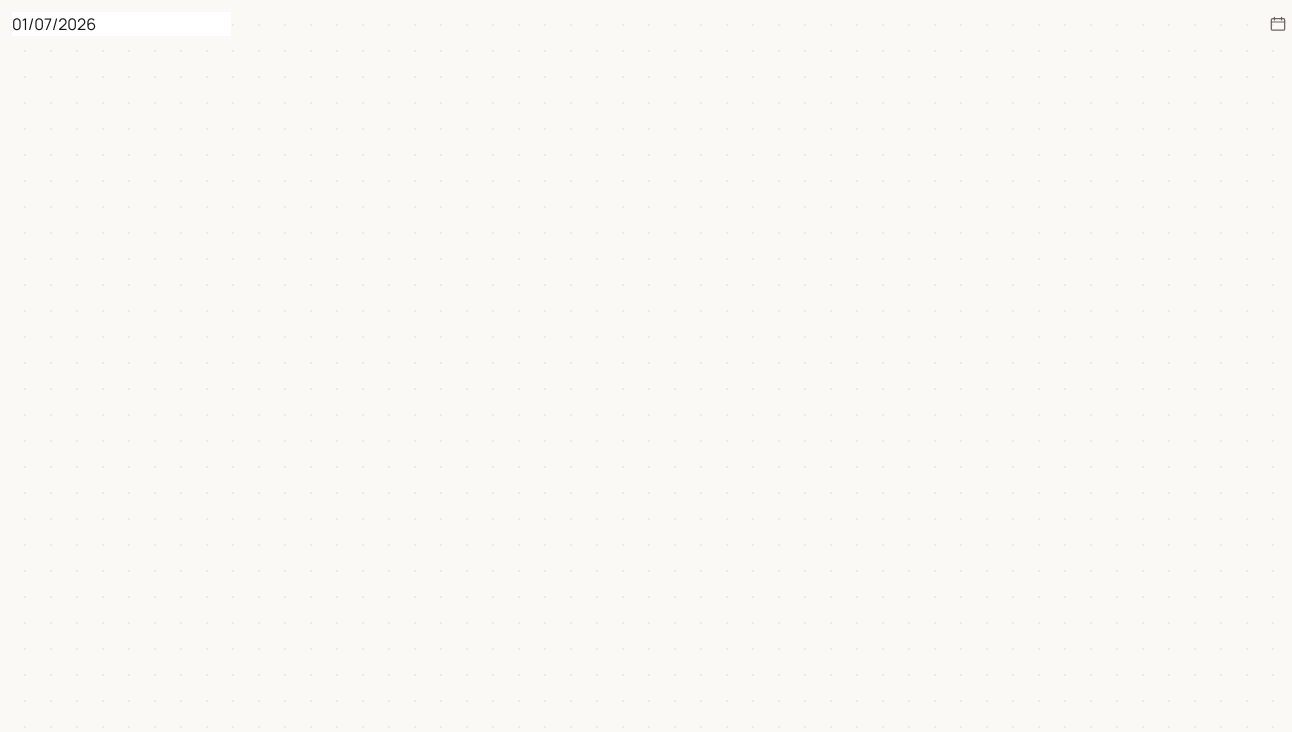
Test: DateInput › opens the calendar when the field itself is clicked, not only the icon
Later steps or results of the test are not shown.
Click the field named "Applied date" at (122, 24), box [12,12,231,36]
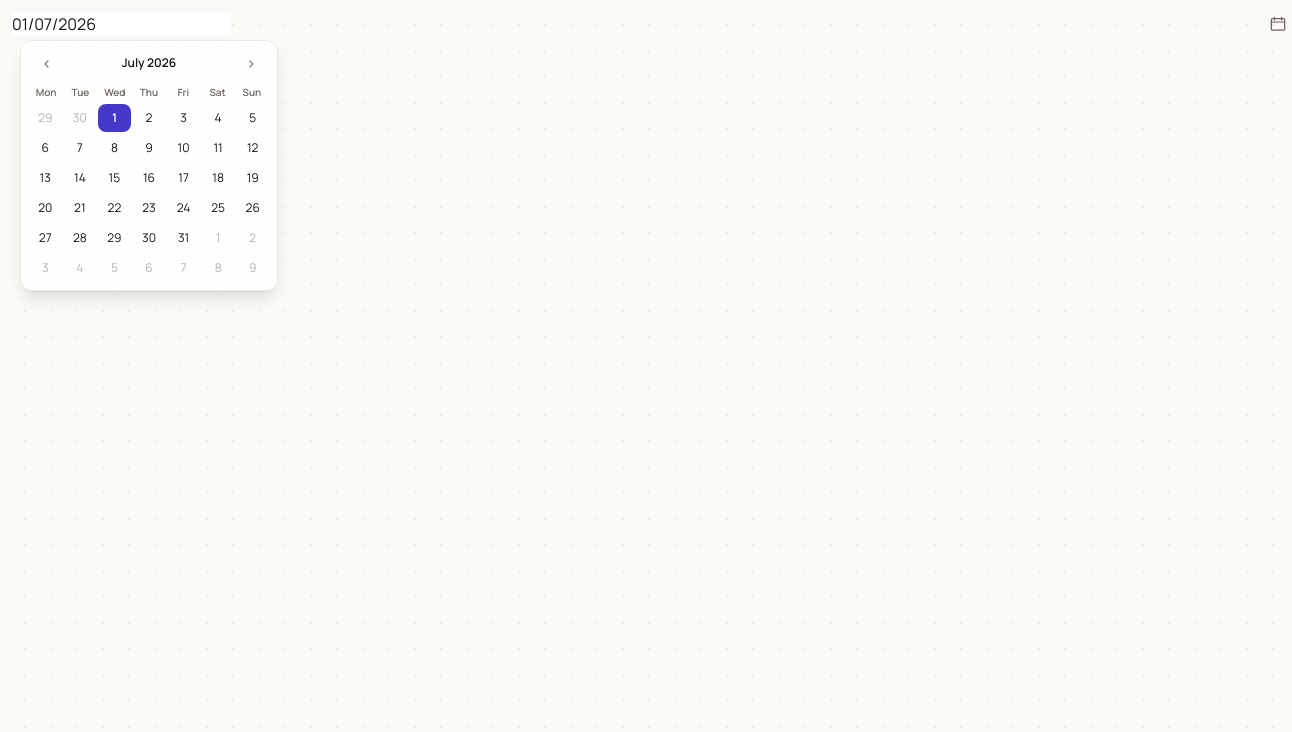
Now the button named "Previous month" is shown, box [33,49,61,77]
